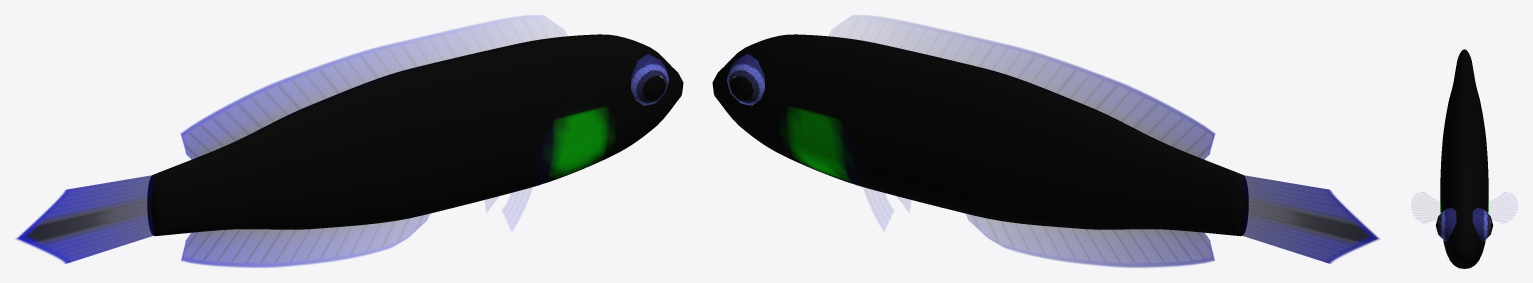
File: dottyback.glb
3 views of the same model, side by side, from view 1: azimuth 30°, elevation 25°; view 2: azimuth 150°, elevation 25°; view 3: azimuth 270°, elevation 25° (orthographic). The views are drawn at different scales.
Visible parts, largest first — view 1: Body, FinDorsal, FinAnal, FinCaudal, EyeR; view 2: Body, FinDorsal, FinAnal, FinCaudal, EyeL; view 3: Body, EyeL, EyeR.
Boxes of the visible parts, left/top/right/bottom form: Body: left=147, top=34, right=683, bottom=236; FinDorsal: left=180, top=16, right=560, bottom=159; FinAnal: left=181, top=214, right=429, bottom=267; FinCaudal: left=16, top=175, right=153, bottom=263; EyeR: left=631, top=54, right=669, bottom=105; Body: left=712, top=34, right=1248, bottom=236; FinDorsal: left=835, top=16, right=1215, bottom=159; FinAnal: left=966, top=214, right=1214, bottom=267; FinCaudal: left=1242, top=175, right=1379, bottom=263; EyeL: left=726, top=54, right=764, bottom=105; Body: left=1440, top=49, right=1488, bottom=268; EyeL: left=1472, top=207, right=1493, bottom=241; EyeR: left=1435, top=207, right=1456, bottom=241.
Size of the model in its own units: 1 by 0.2973 by 0.2009.
Materials: 4 (3 with a texture image).
